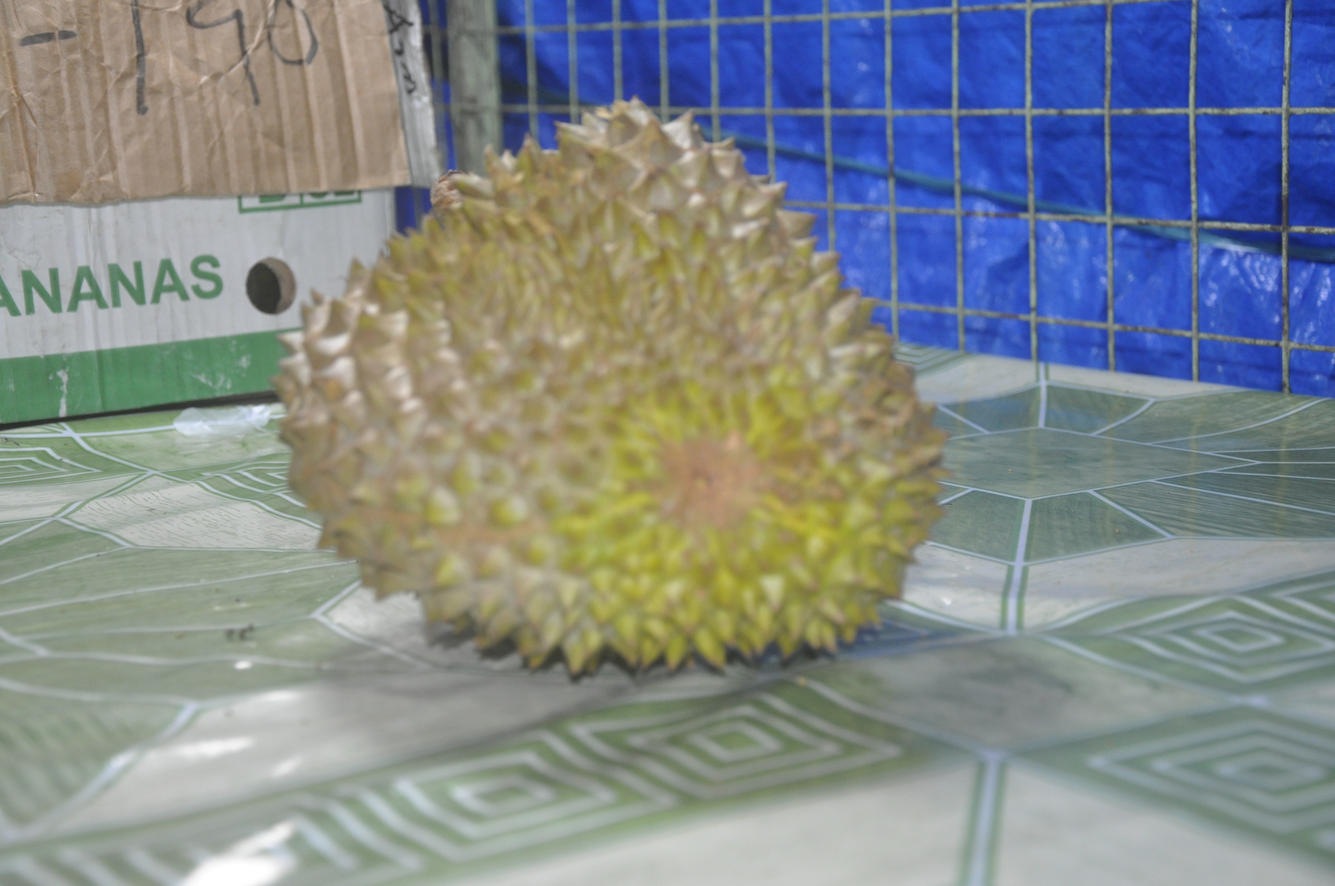mature: (274, 100, 944, 676)
